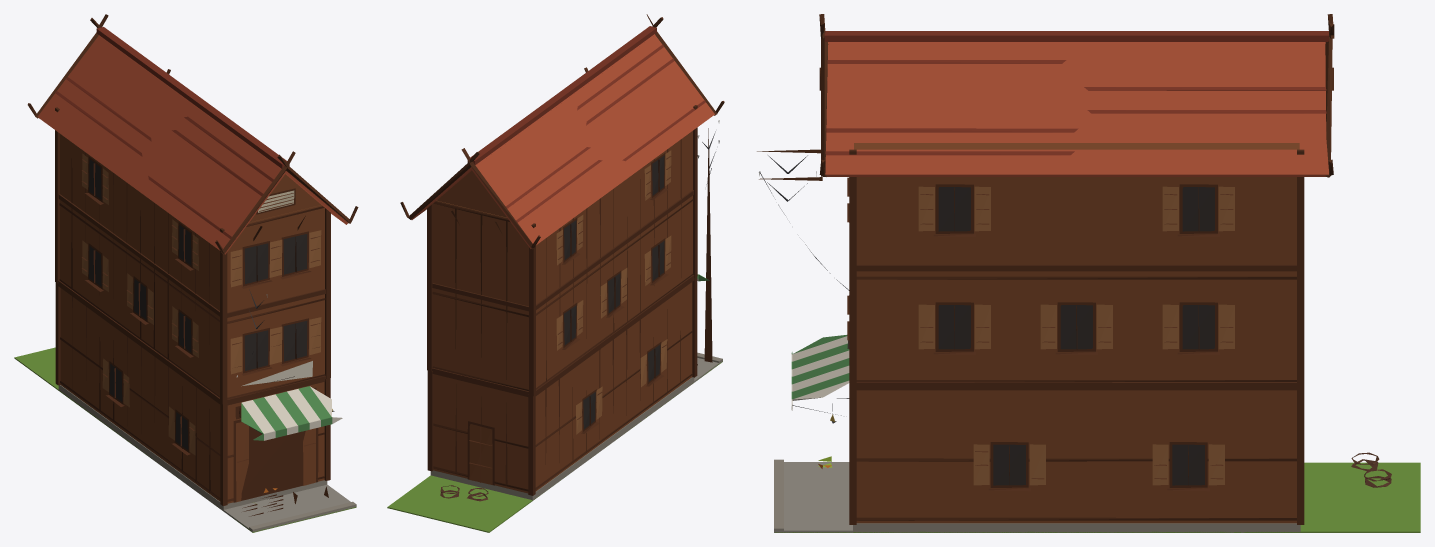
File: bay2_one.glb
3 renders of one model, left to right at view 1: azimuth 30°, elevation 25°; view 2: azimuth 150°, elevation 25°; view 3: azimuth 270°, elevation 25°, orthographic. The views are drawn at different scales.
Parts seen in each view (by area): view 1: body, windows; view 2: body, windows; view 3: body, windows.
Boxes of the visible parts, bbox=[...] form: body: bbox=[14, 14, 358, 532]; windows: bbox=[89, 159, 332, 449]; body: bbox=[387, 14, 724, 532]; windows: bbox=[564, 155, 664, 429]; body: bbox=[757, 14, 1420, 532]; windows: bbox=[830, 187, 1214, 485].
Bounding box in the file's own units: 5.53 × 13.02 × 16.4.
